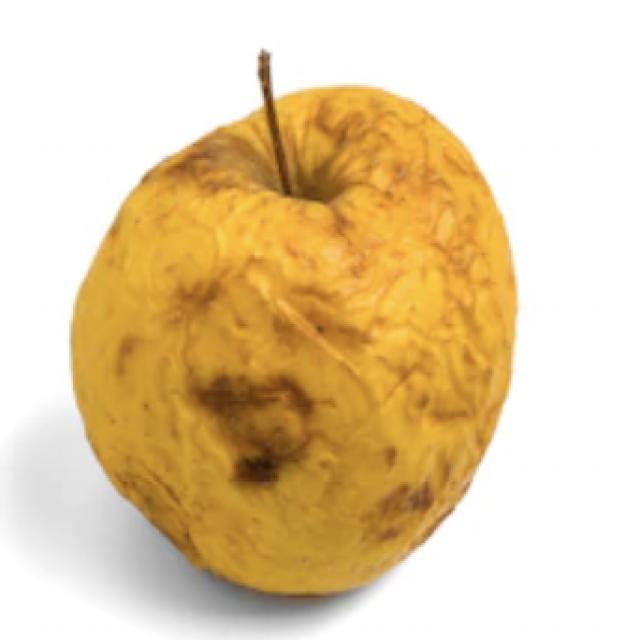Rotten: (81, 87, 532, 603)
